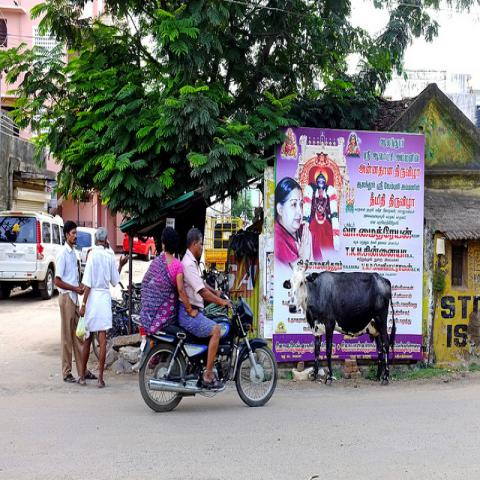car: (0, 206, 67, 302), (75, 226, 115, 282), (121, 234, 157, 262)
motorcycle: (132, 289, 279, 411)
